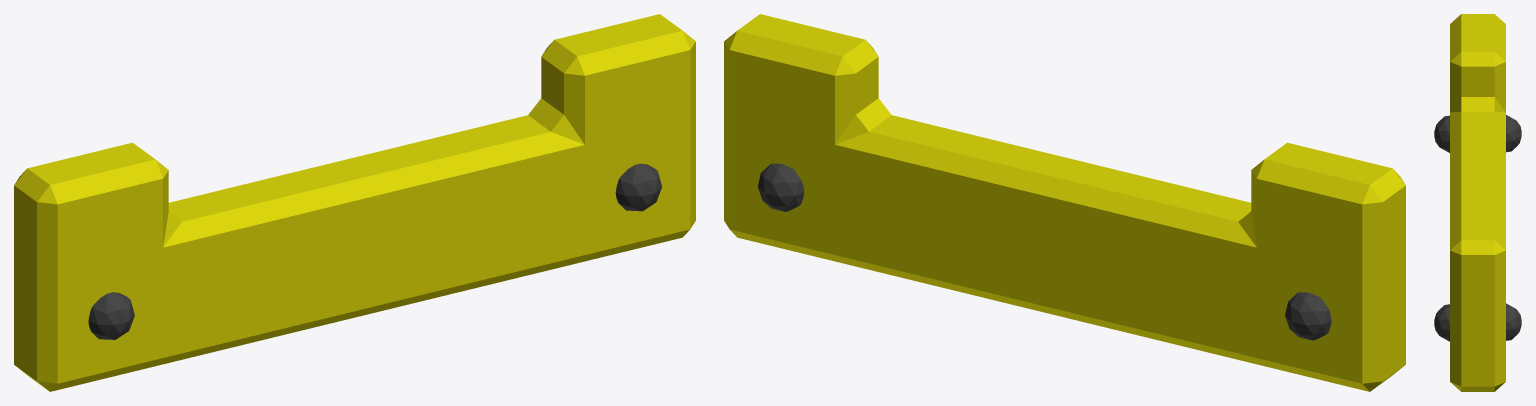
Rendered from BarBracketE.fbx.
3 renders of one model, left to right at view 1: azimuth 30°, elevation 25°; view 2: azimuth 150°, elevation 25°; view 3: azimuth 270°, elevation 25°, orthographic. The views are drawn at different scales.
Parts seen in each view (by area): view 1: BarE; view 2: BarE; view 3: BarE.
Part boxes in pixels (x1=…): BarE: x1=14, y1=14, x2=695, y2=391; BarE: x1=724, y1=14, x2=1405, y2=391; BarE: x1=1434, y1=14, x2=1521, y2=391.
Bounding box in the file's own units: 1000 × 300 × 157.
